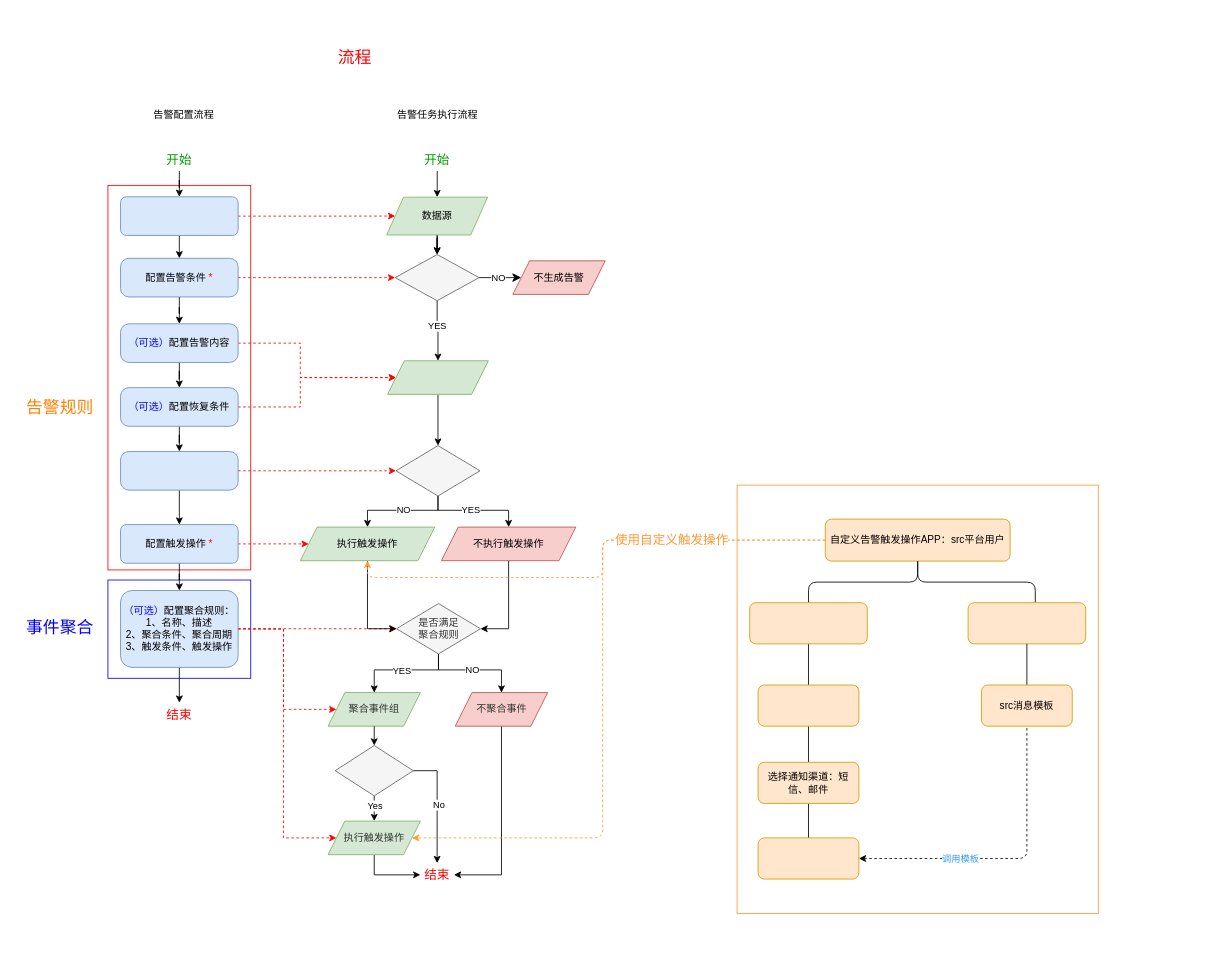
The diagram is 1205 pixels wide and 978 high, and some of its shapes have lost their labels. The shapes that lost their labels are listed below. From the top down, each one's box as (x1, y1, x2, y2) in pixels, then its label:
(120, 196, 238, 235): 选择数据源 *
(394, 254, 479, 301): 是否触发 告警条件
(387, 360, 488, 394): 生成告警
(120, 451, 238, 490): （可选） 配置告警抑制规则
(395, 445, 480, 496): 是否告警抑制
(749, 602, 867, 644): 触发操作方式
(967, 602, 1086, 644): 通知内容模板
(757, 684, 859, 726): 选择通知src平台角色
(334, 745, 413, 796): 是否满足 触发条件
(757, 837, 859, 879): 选择通知模板
